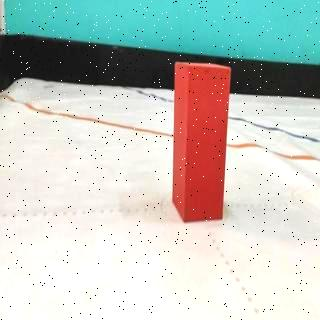redbox: (172, 60, 231, 222)
